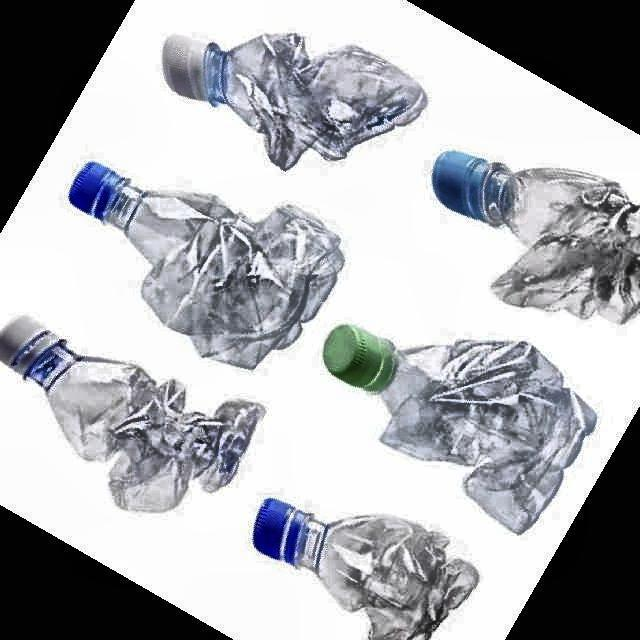plastic: (69, 162, 344, 368), (325, 326, 596, 532), (0, 318, 264, 511), (432, 151, 640, 321), (164, 34, 425, 168), (254, 499, 478, 640)
